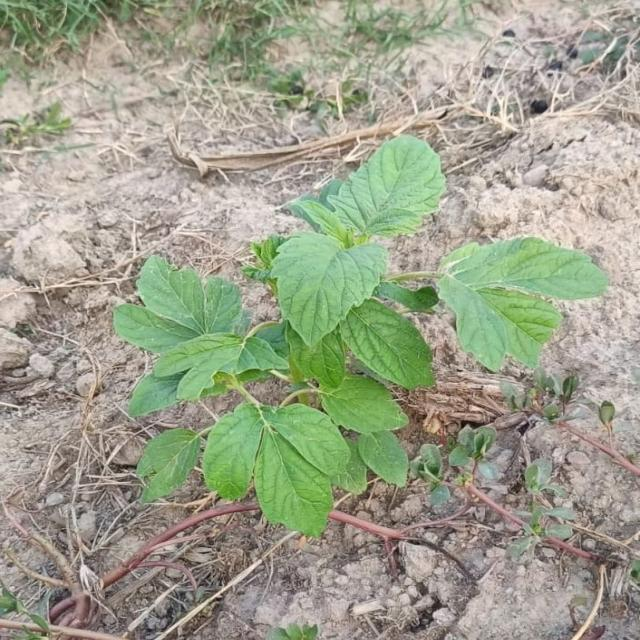plant: (114, 136, 606, 535)
